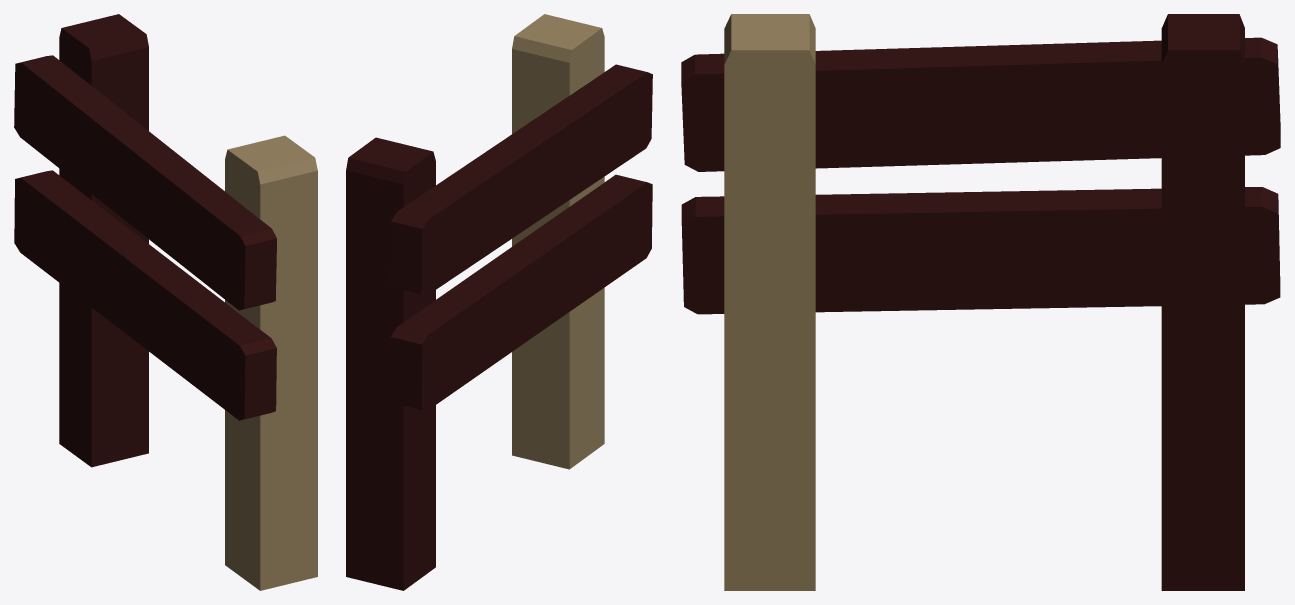
Rendered from fence2.fbx.
3 views of the same model, side by side, from view 1: azimuth 30°, elevation 25°; view 2: azimuth 150°, elevation 25°; view 3: azimuth 270°, elevation 25° (orthographic). The views are drawn at different scales.
Visible parts, largest first — view 1: Cube.010; view 2: Cube.010; view 3: Cube.010.
Boxes of the visible parts, <box> form: Cube.010: <box>14,14,317,590</box>; Cube.010: <box>346,14,652,590</box>; Cube.010: <box>681,14,1280,590</box>.
Size of the model in its own units: 34 by 152 by 153.
